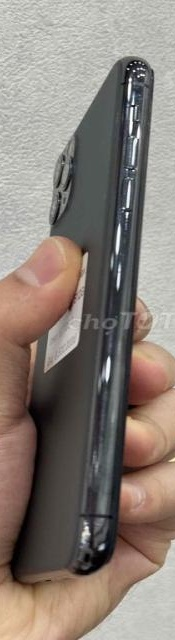scratch: (120, 62, 155, 175), (102, 200, 142, 296), (89, 426, 116, 492), (66, 522, 113, 559)
